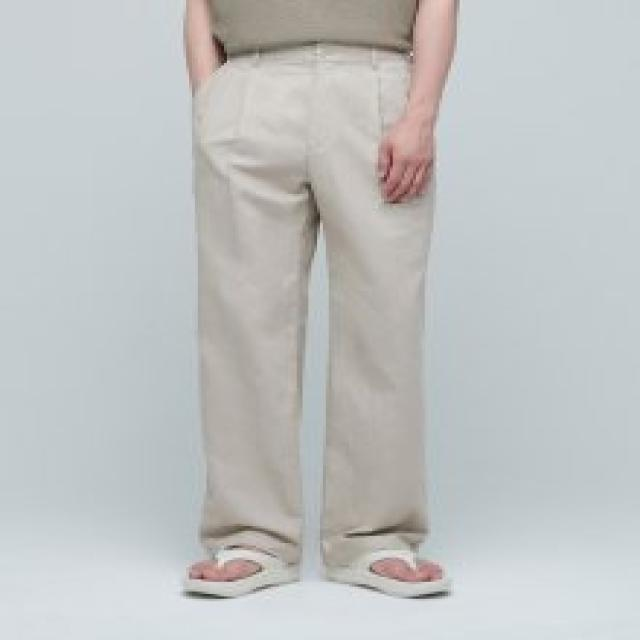long-pants: (200, 43, 436, 568)
